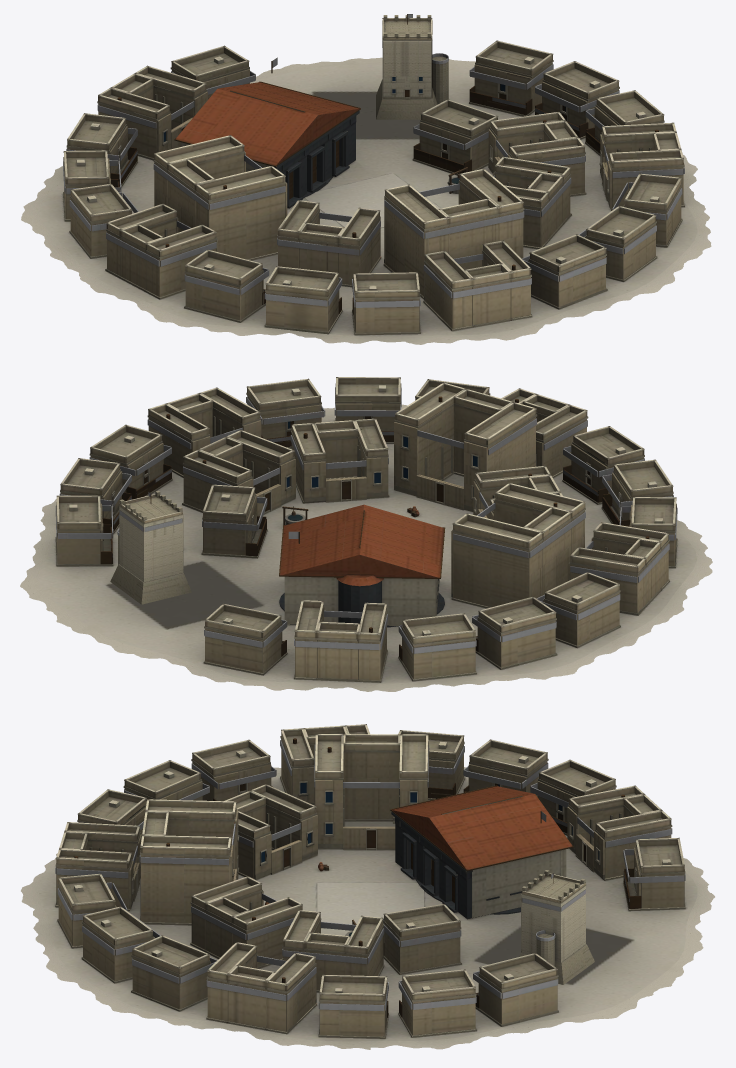
Rendered from kingdoms-town-big-a-israelite.glb.
3 views of the same model, one above another, from view 1: azimuth 30°, elevation 25°; view 2: azimuth 150°, elevation 25°; view 3: azimuth 270°, elevation 25° (orthographic).
Visible parts, largest first — view 1: LOD0; view 2: LOD0; view 3: LOD0.
Part boxes in pixels (x1,y1,x2,y2): LOD0: (21,14,711,344); LOD0: (20,377,712,691); LOD0: (21,724,714,1049).
Size of what is drawn, in the model's own units: 7.88 by 1.2 by 7.96.
3 materials, 3 textured.
